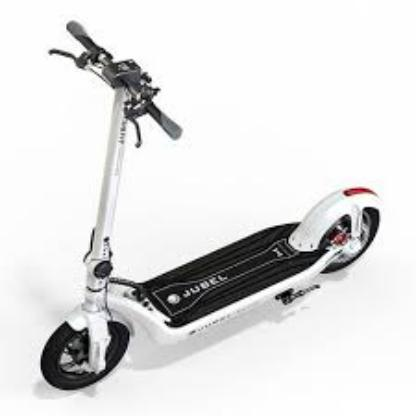bike: (37, 21, 384, 393)
